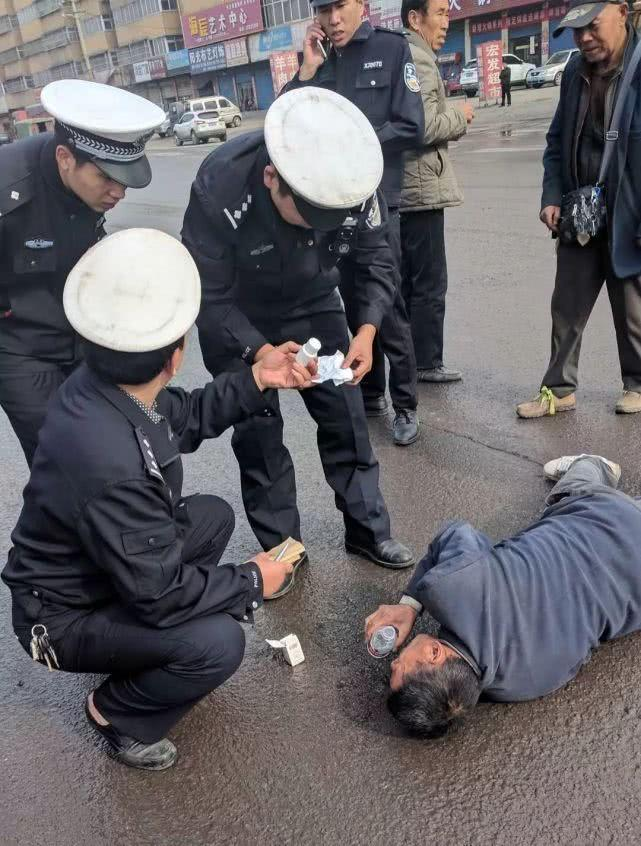bending: (7, 214, 305, 769), (177, 81, 422, 587), (1, 70, 165, 453)
down: (363, 419, 641, 734)
up: (294, 1, 442, 452), (516, 1, 640, 426), (384, 1, 486, 394)
